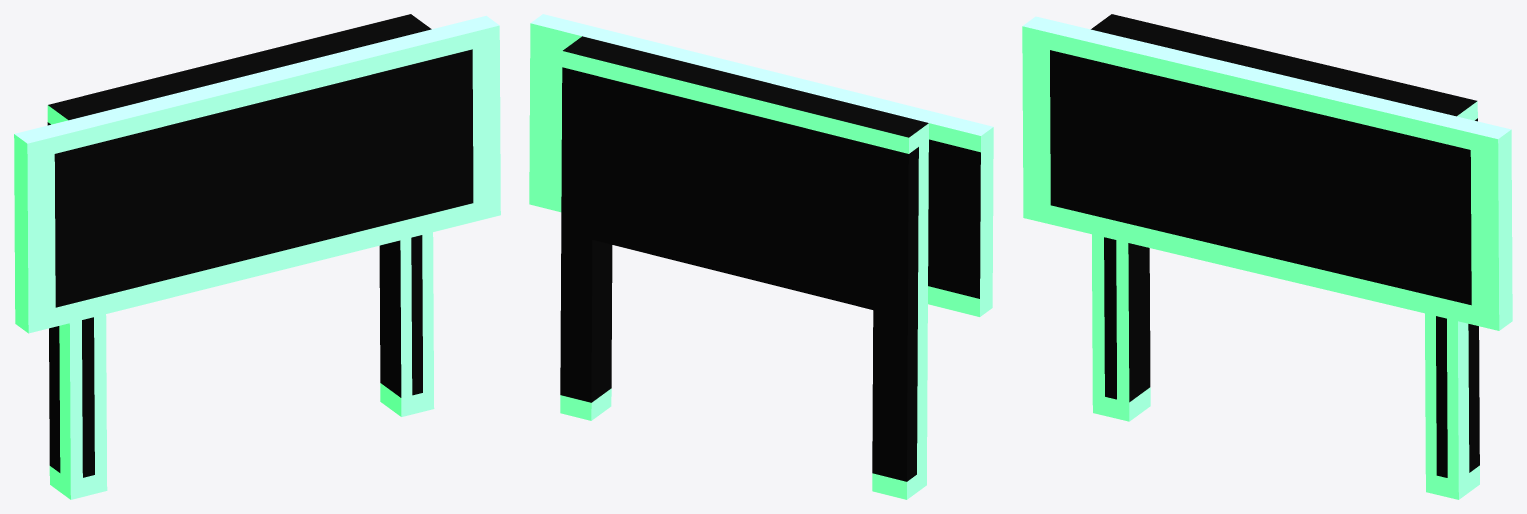
File: Barrier.fbx
3 views of the same model, side by side, from view 1: azimuth 30°, elevation 25°; view 2: azimuth 150°, elevation 25°; view 3: azimuth 330°, elevation 25° (orthographic). The views are drawn at different scales.
Visible parts, largest first — view 1: Cube; view 2: Cube; view 3: Cube.
Part boxes in pixels (<box>): Cube: <box>14,14,500,499</box>; Cube: <box>529,14,993,499</box>; Cube: <box>1022,14,1512,499</box>.
Bounding box in the file's own units: 201 × 261 × 32.68.
